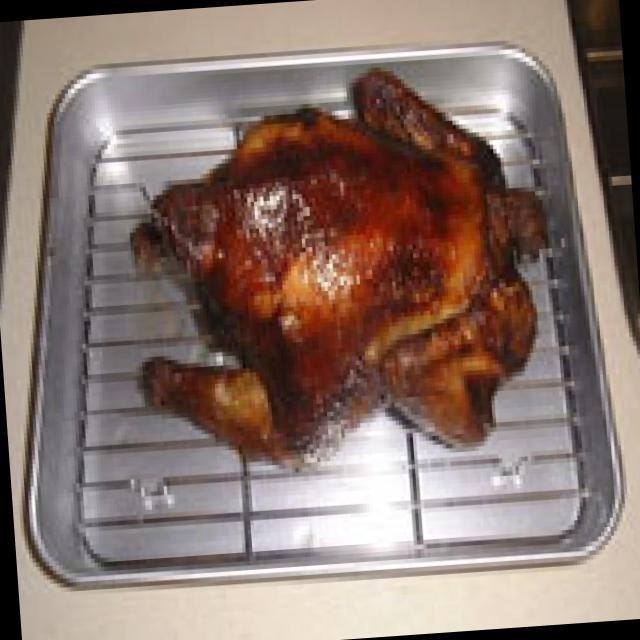Chicken: (102, 48, 561, 472)
